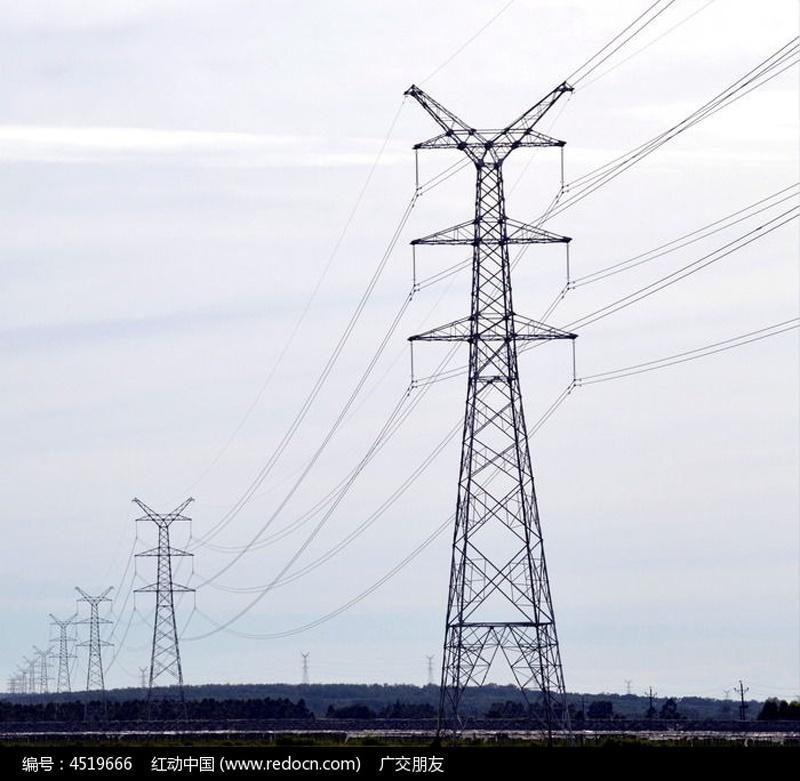power_tower: (403, 80, 580, 736), (132, 493, 200, 728), (74, 584, 114, 722), (48, 612, 76, 694), (32, 642, 56, 693), (22, 654, 42, 692), (14, 664, 34, 692), (422, 652, 438, 684), (4, 672, 22, 693), (300, 650, 310, 684), (138, 660, 149, 688), (624, 678, 636, 695), (719, 688, 733, 699)
